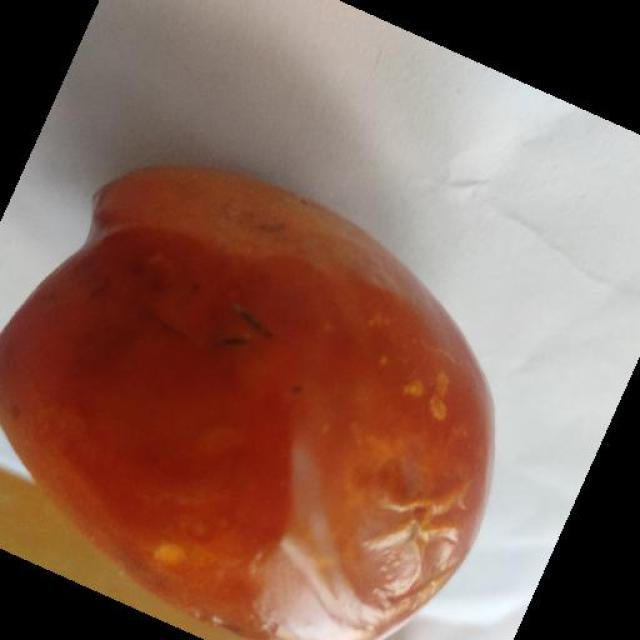Stale_tomato: (22, 166, 471, 618)
